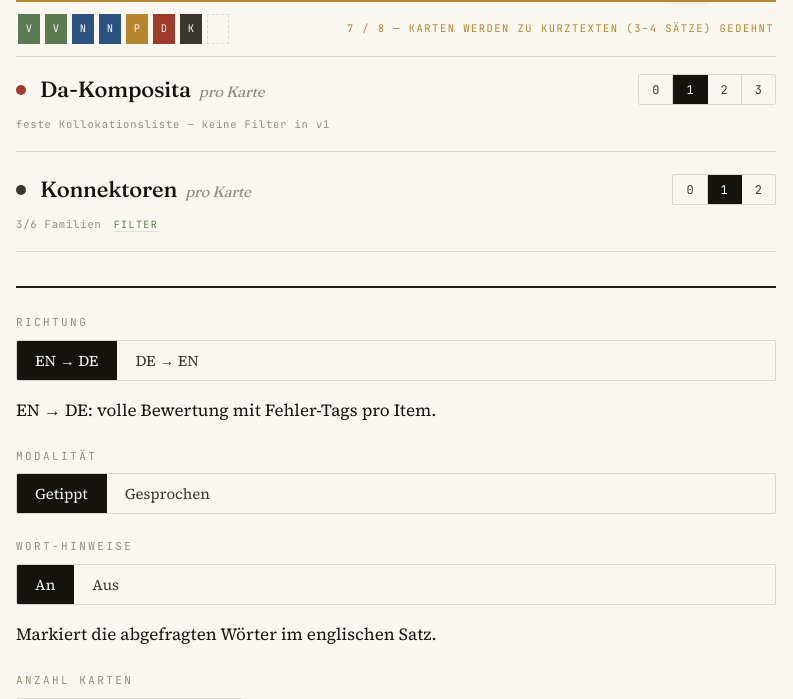
Test case: SentenceSetup › DE→EN hides Modalität and Wort-Hinweise
The image size is (793, 699).
(page scrolled)
Click the button "DE → EN": (167, 360) [117, 340, 217, 380]
(page scrolled)
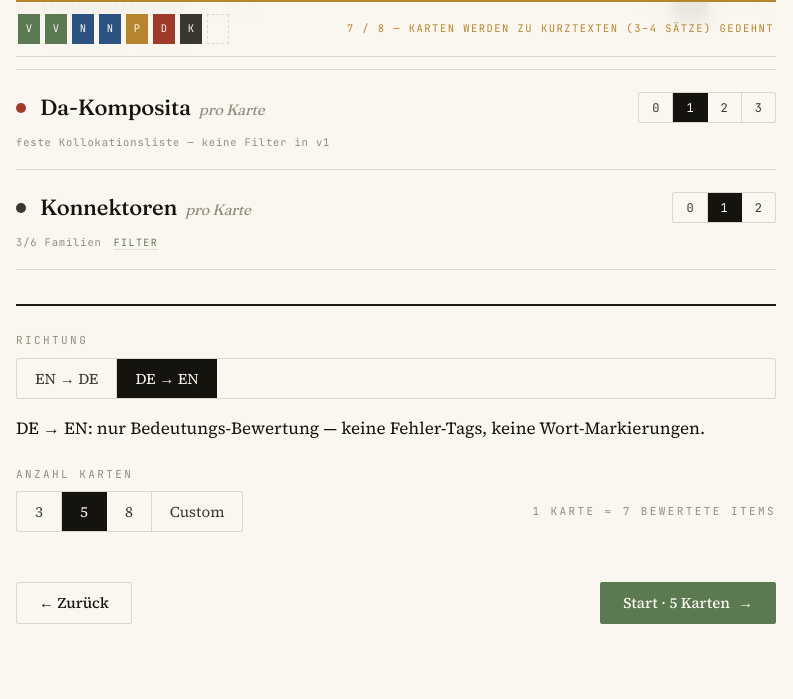
Result: the text "Modalität" is gone
Result: the text "Wort-Hinweise" is gone
